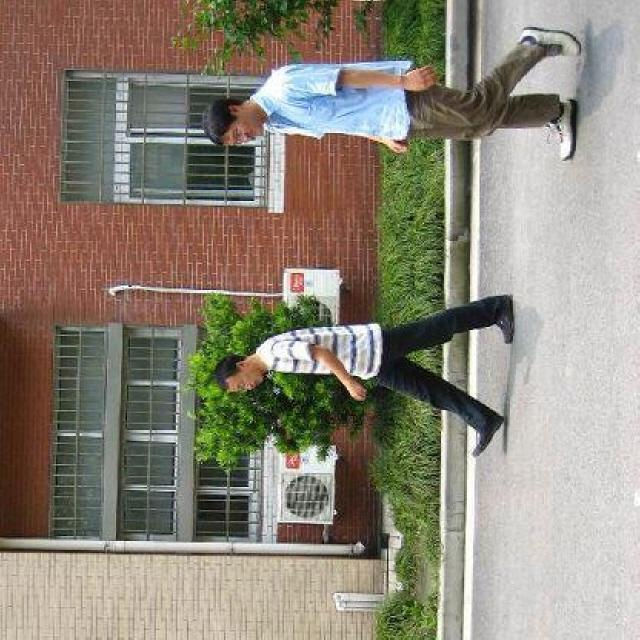Stand: (204, 30, 581, 158), (216, 296, 515, 454)
